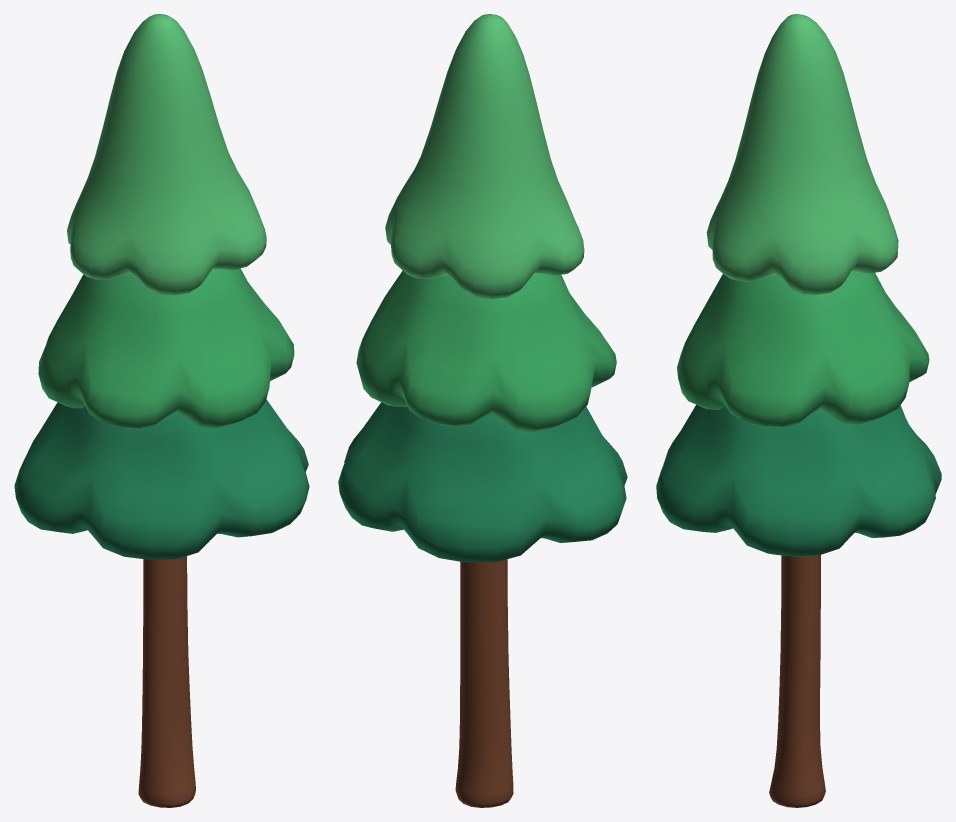
File: Conifer_04.fbx
3 renders of one model, left to right at view 1: azimuth 30°, elevation 25°; view 2: azimuth 150°, elevation 25°; view 3: azimuth 270°, elevation 25°, orthographic.
Visible parts, largest first — view 1: Conifer_04_LOD0; view 2: Conifer_04_LOD0; view 3: Conifer_04_LOD0.
Boxes of the visible parts, bbox=[...] form: Conifer_04_LOD0: bbox=[14, 14, 309, 807]; Conifer_04_LOD0: bbox=[338, 14, 627, 807]; Conifer_04_LOD0: bbox=[656, 14, 941, 807].
Size of what is drawn, in the model's own units: 624 by 1795 by 595.
